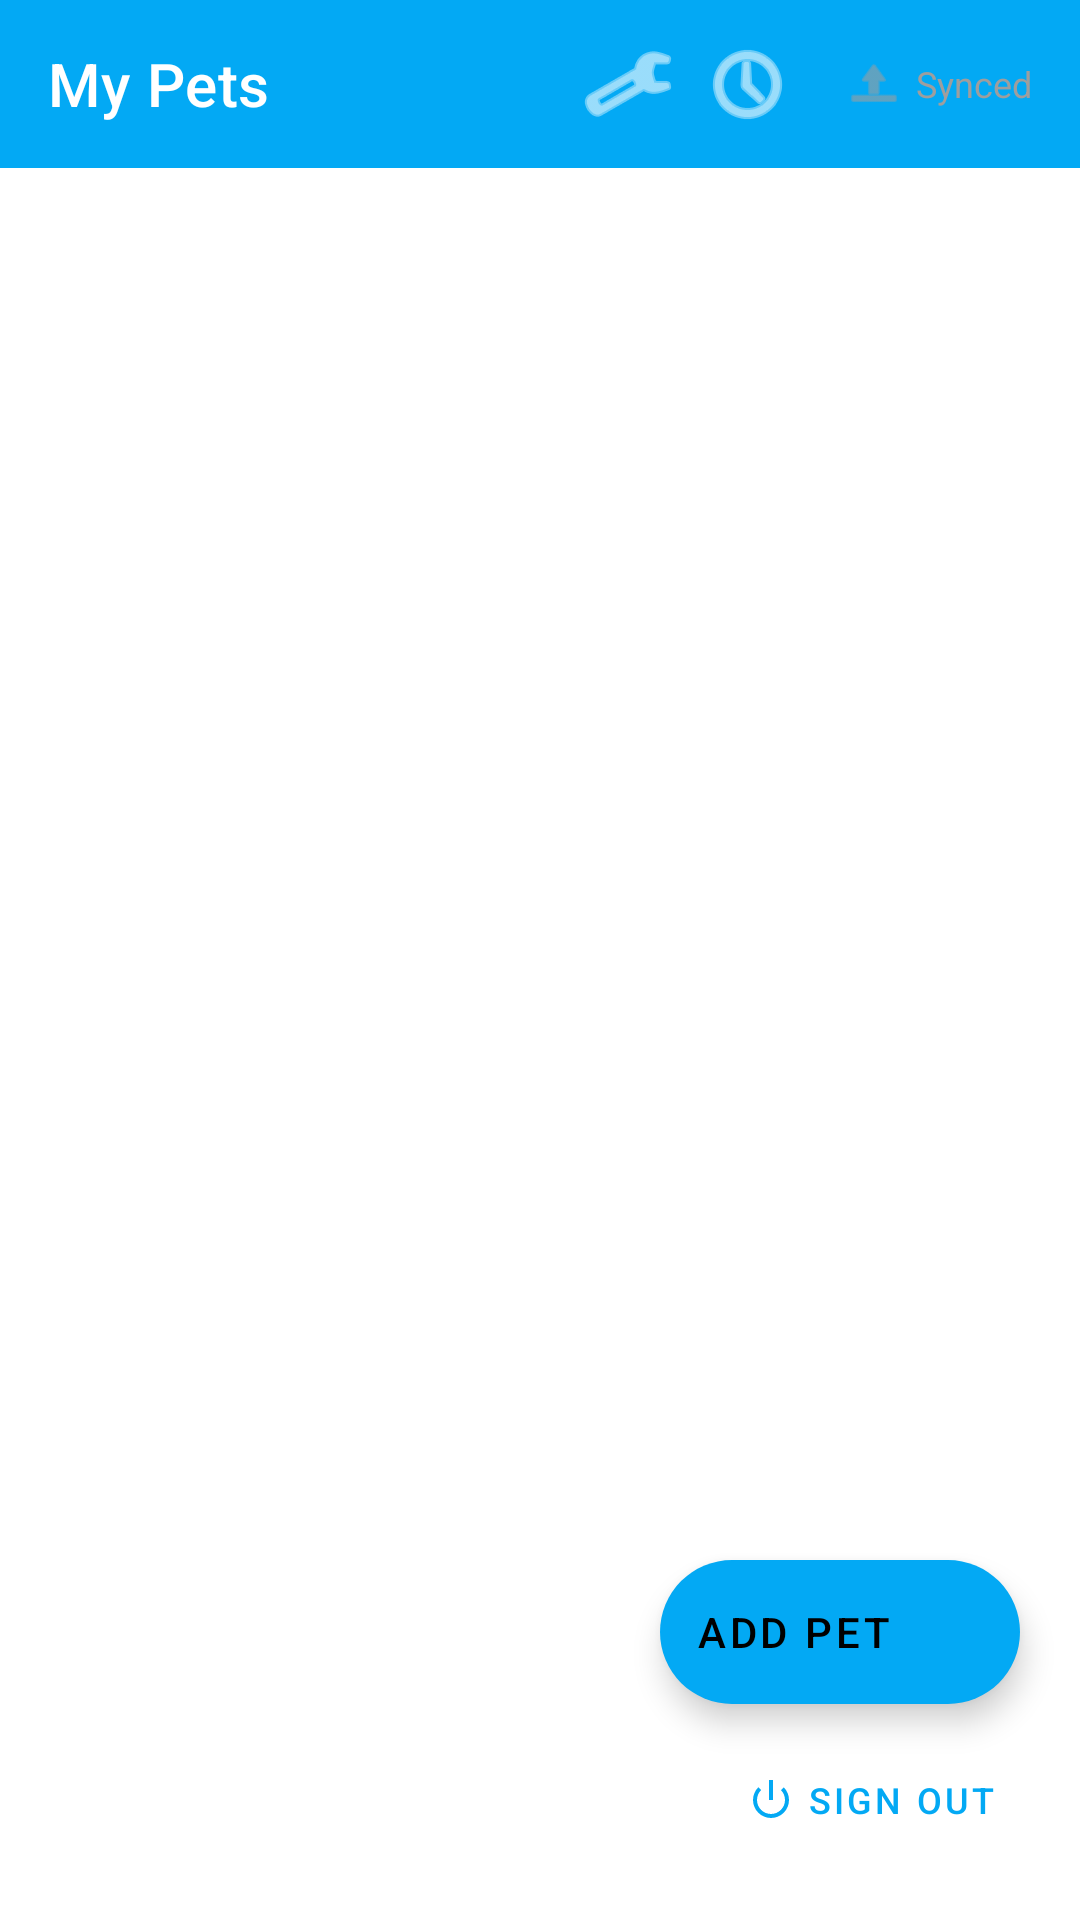

Named icons in this screenshot (1080x1920) and their centers, (x=x, y=y):
Settings: (x=628, y=84)
